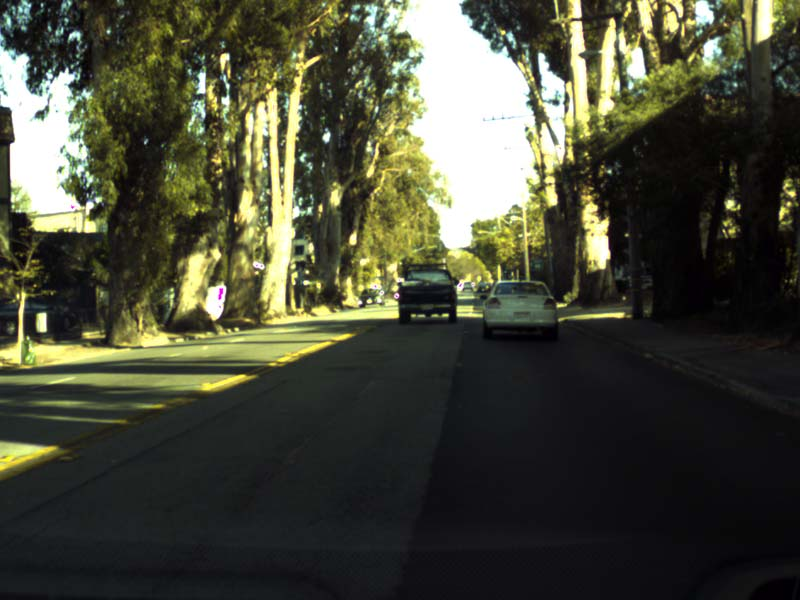Green: (503, 265, 506, 272)
